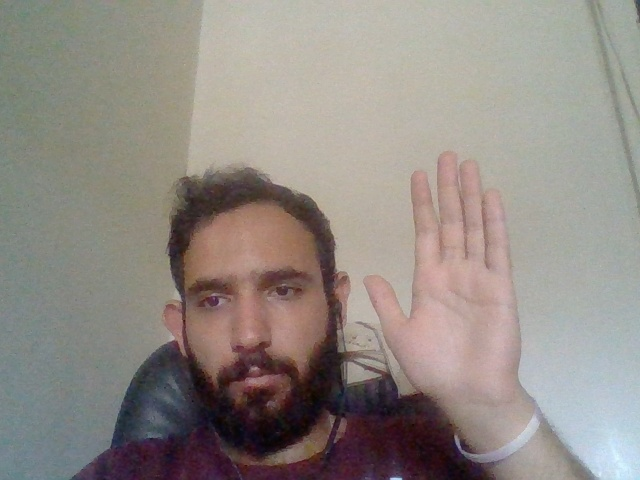Goodbye: (351, 144, 558, 406)
